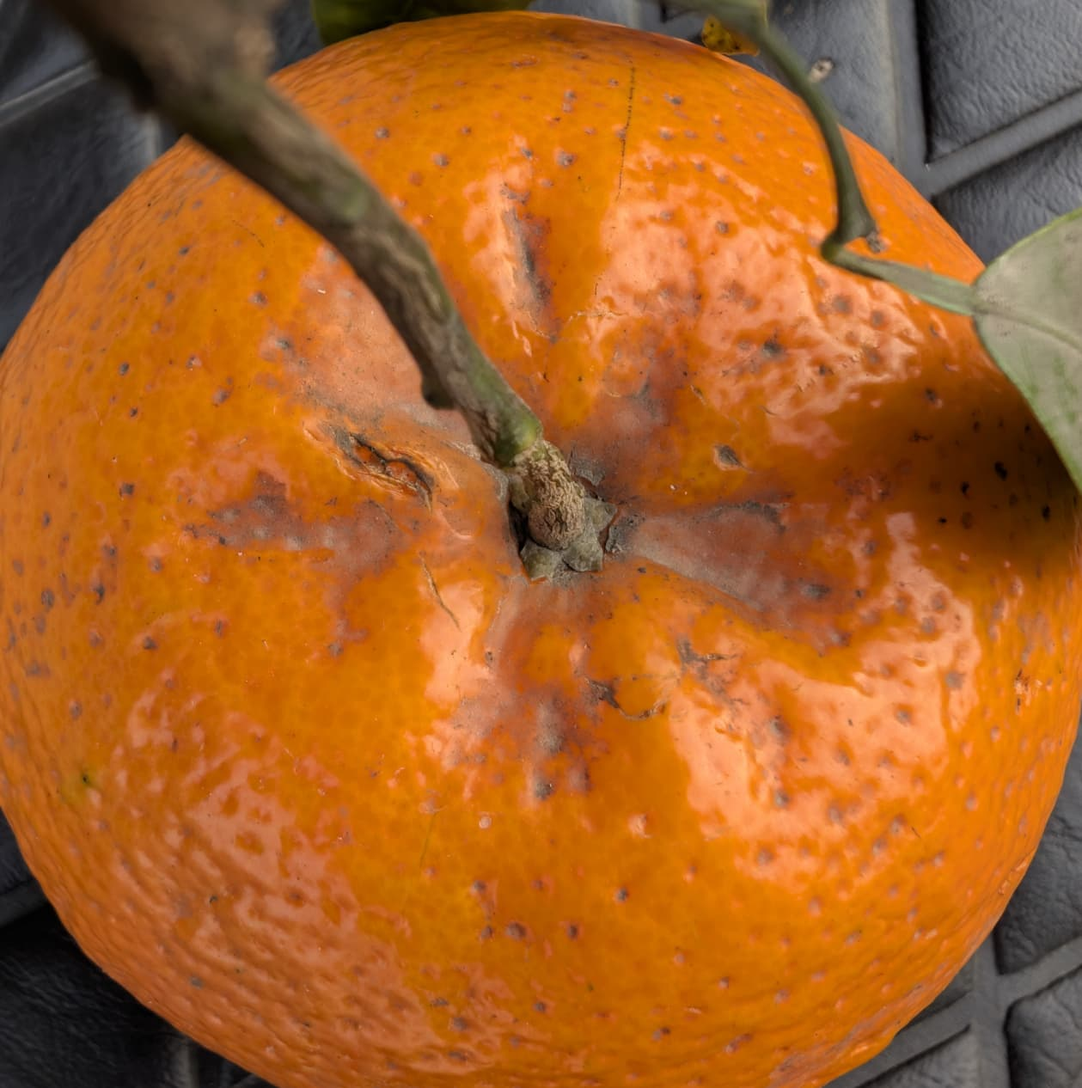orange: (175, 96, 992, 1028)
